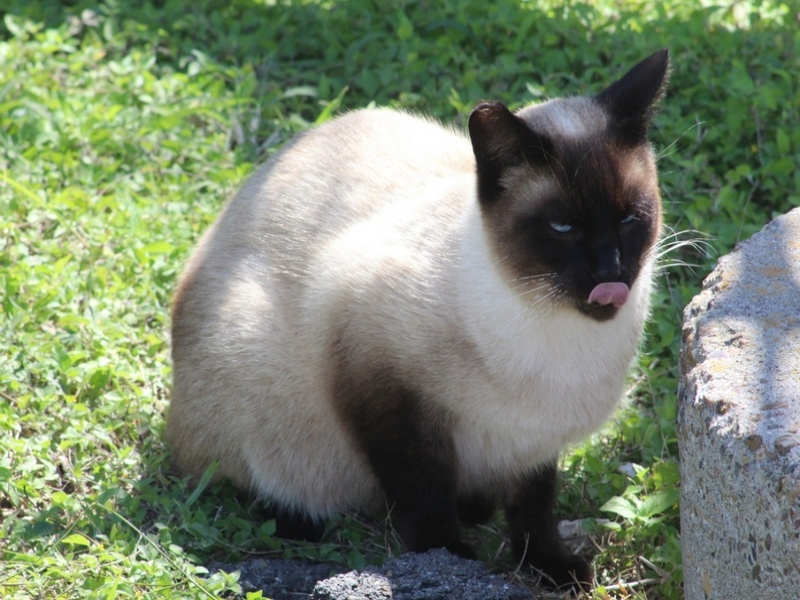cat: (149, 45, 677, 589)
